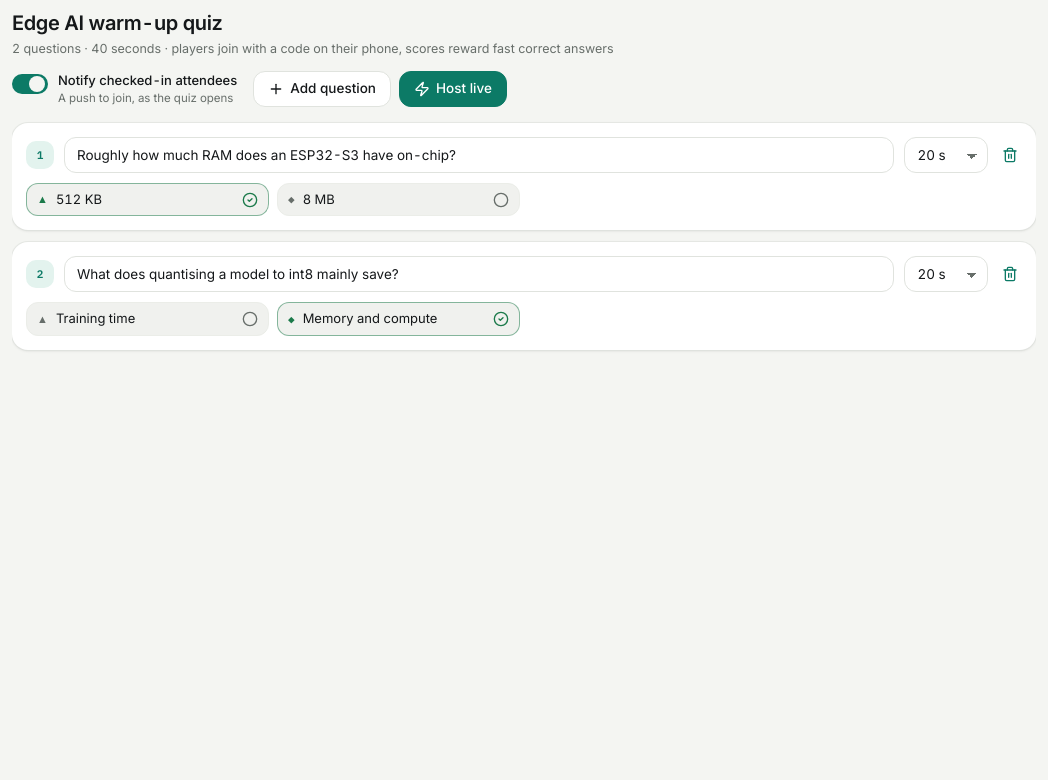
writing the quiz › will not save a question without wording and two answers, or with an empty answer marked right
Click the button "Add question".
click(322, 89)  # box [253,71,391,107]
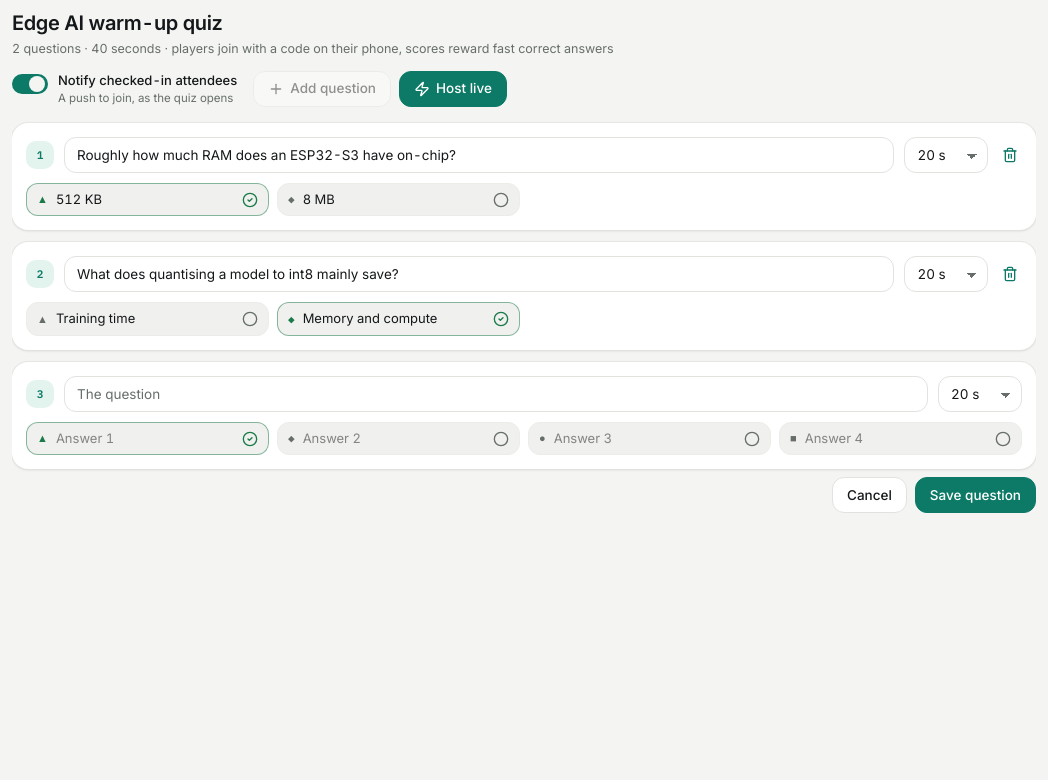
Type "Which board has a camera?" into the field named "Question 3".
click(496, 394); type("Which board has a camera?")  # box [64,376,928,412]
Type "ESP32-CAM" into the field labelled "Answer 1".
click(145, 439); type("ESP32-CAM")  # box [56,429,234,448]
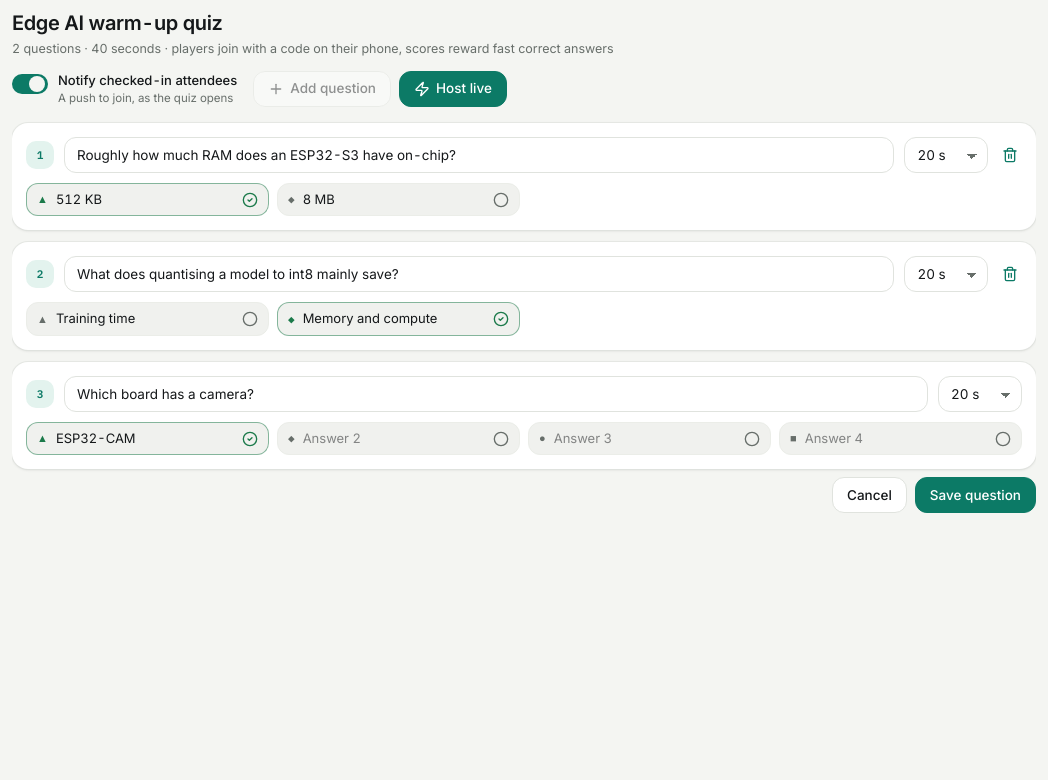
Click the button "Save question".
click(975, 495)  # box [915,477,1036,513]
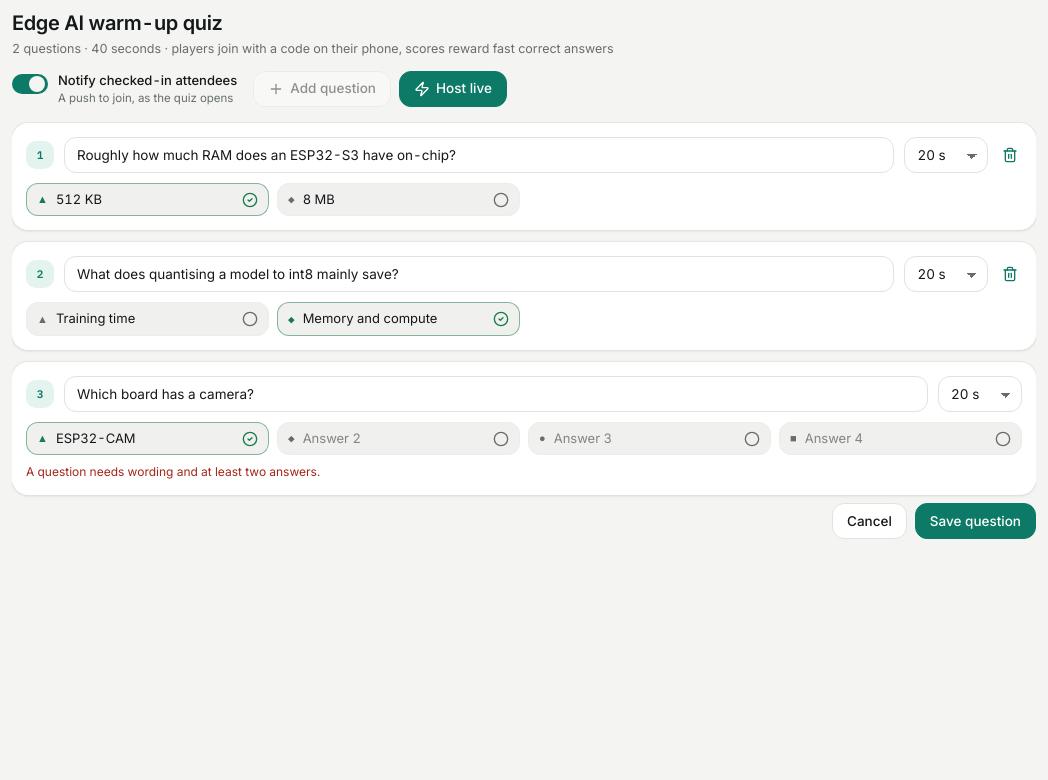
expect the text "A question needs wording and at least two answers." is shown: met, box [26,464,320,479]
Type "Arduino Uno" into the field labelled "Answer 2".
click(394, 439); type("Arduino Uno")  # box [303,429,485,448]
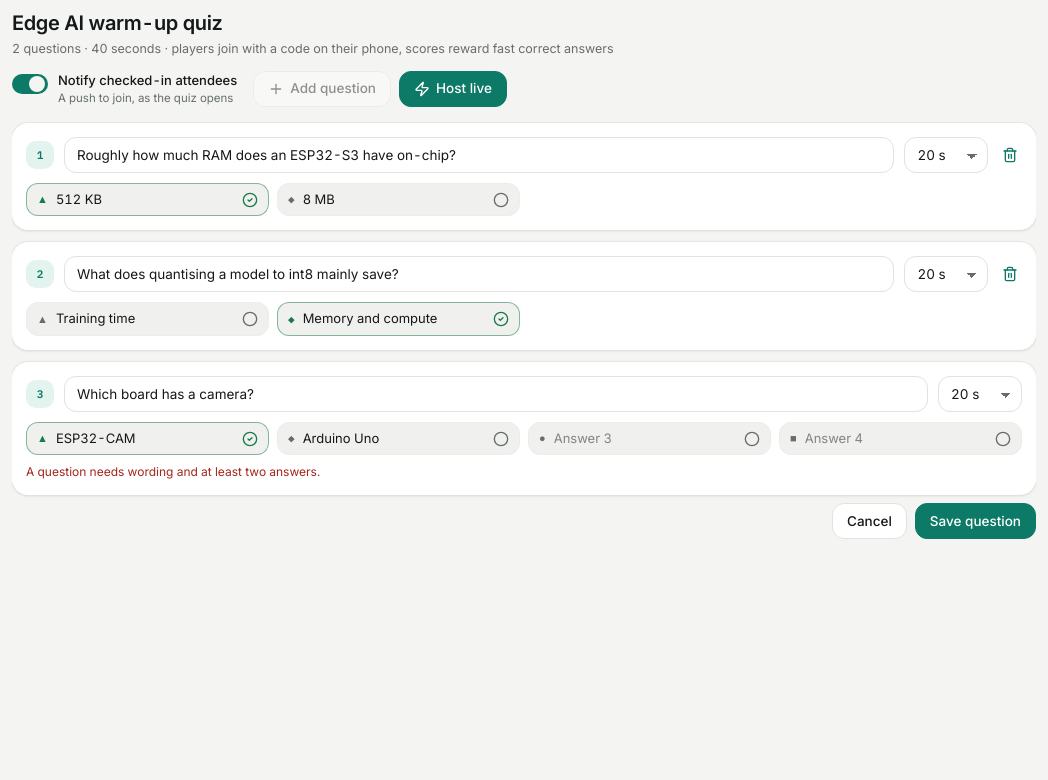
Click the button named "Mark answer 4 as right".
click(1003, 438)  # box [995,430,1011,446]
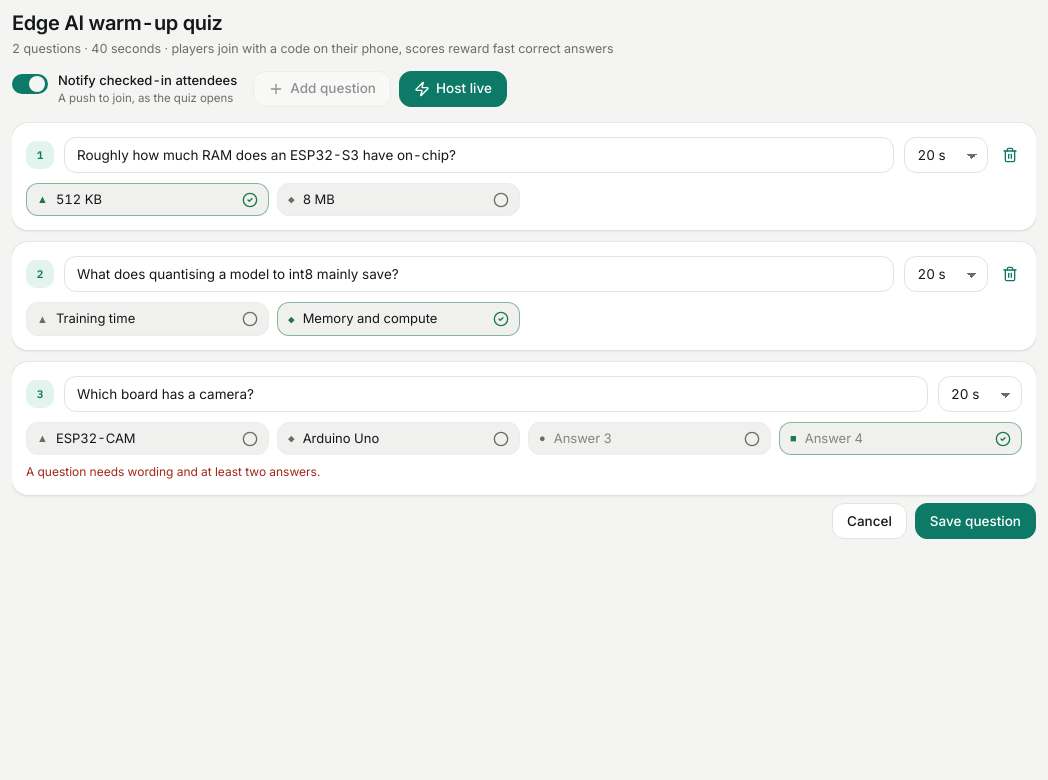
Click the button "Save question".
click(975, 521)  # box [915,503,1036,539]
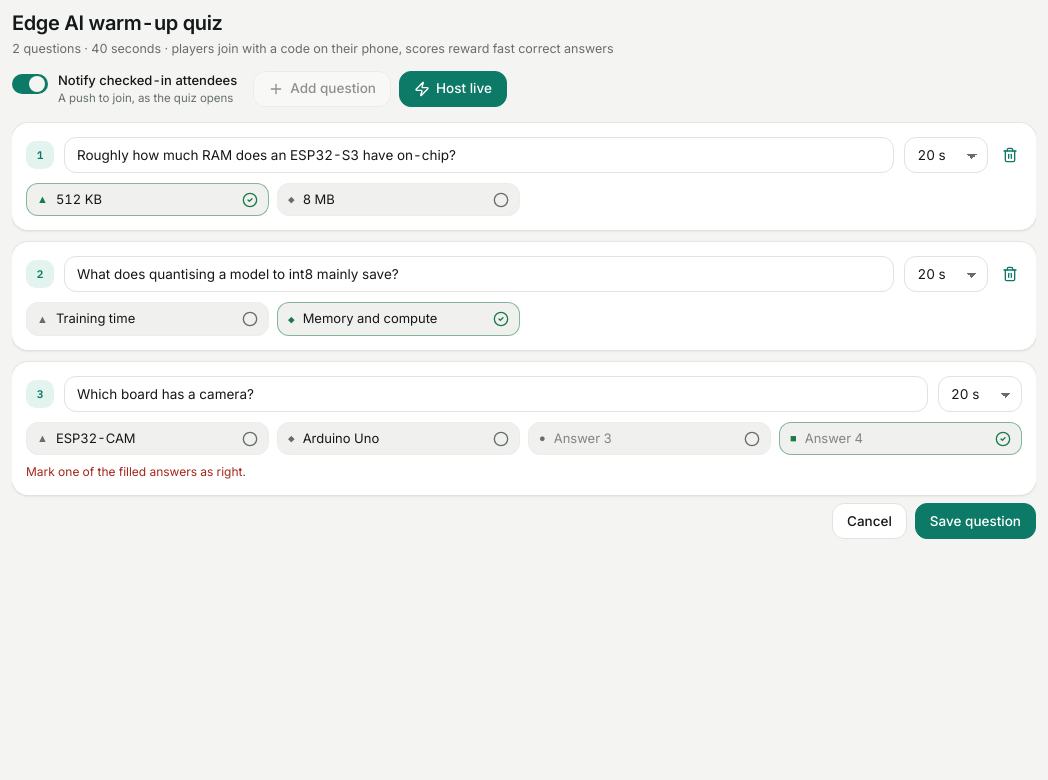
expect the text "Mark one of the filled answers as right." is shown: met, box [26,464,246,479]
